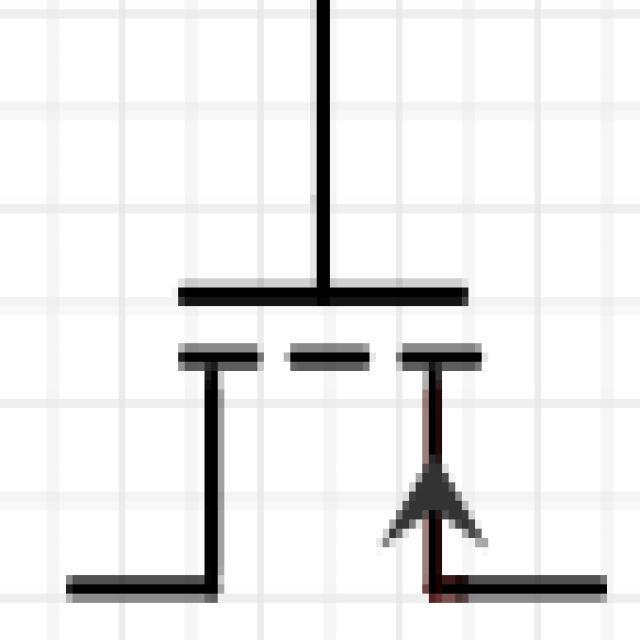pmos: (57, 24, 611, 631)
